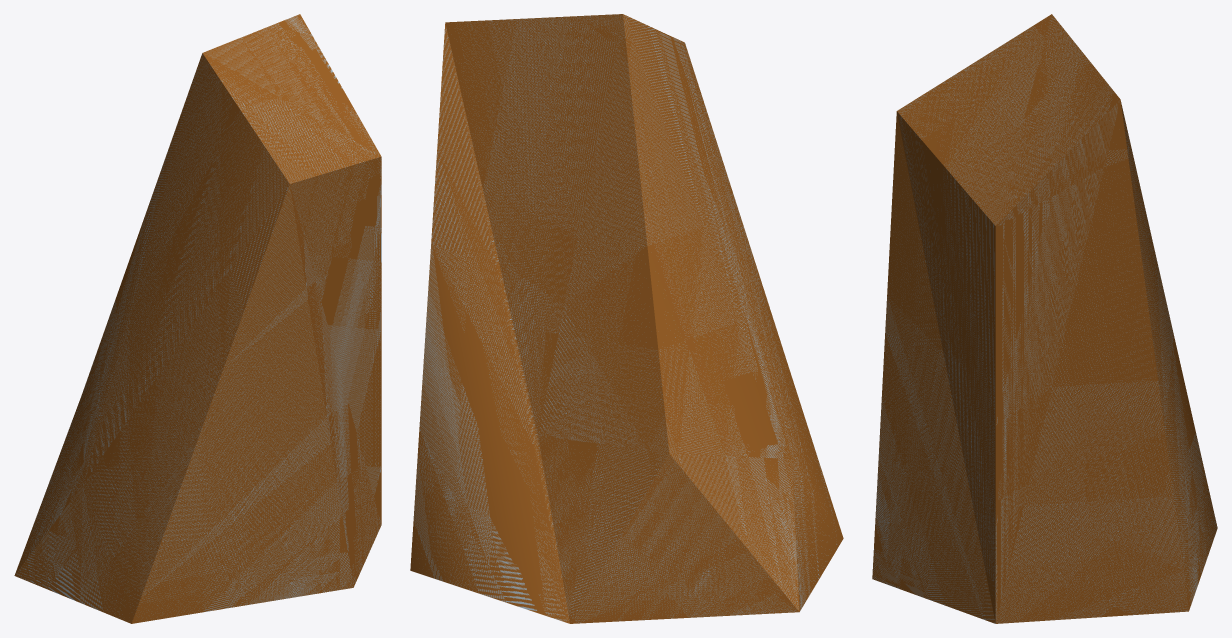
File: Rock_Large_Sharp_Dirt_01.fbx
The picture shows the model from 3 angles, left to right: view 1: azimuth 30°, elevation 25°; view 2: azimuth 150°, elevation 25°; view 3: azimuth 270°, elevation 25°; orthographic projection. The views are drawn at different scales.
Parts seen in each view (by area): view 1: Model; view 2: Model; view 3: Model.
Part boxes in pixels (x1,y1,x2,y2): Model: (14, 14, 381, 623); Model: (410, 14, 843, 623); Model: (872, 14, 1217, 623).
Size of the model in its own units: 352 by 545 by 298.
